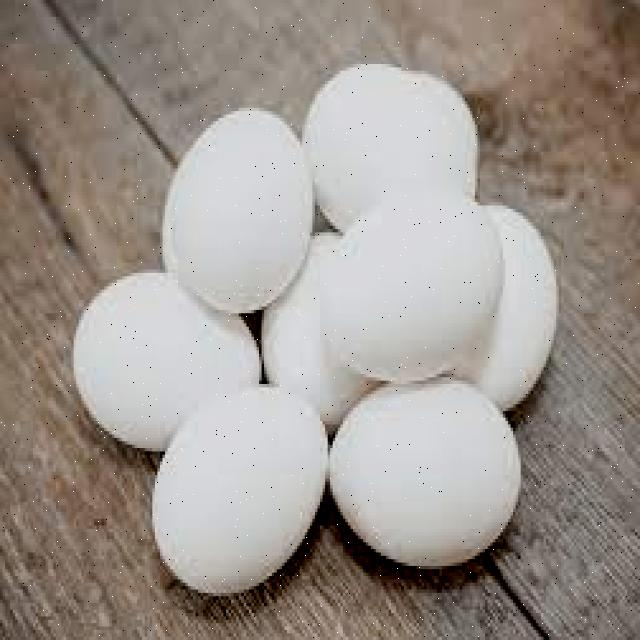Blood Stained Egg: (324, 198, 520, 366)
White Egg: (330, 364, 551, 555), (167, 376, 340, 608), (143, 103, 314, 333), (46, 281, 266, 458), (308, 47, 498, 224)
